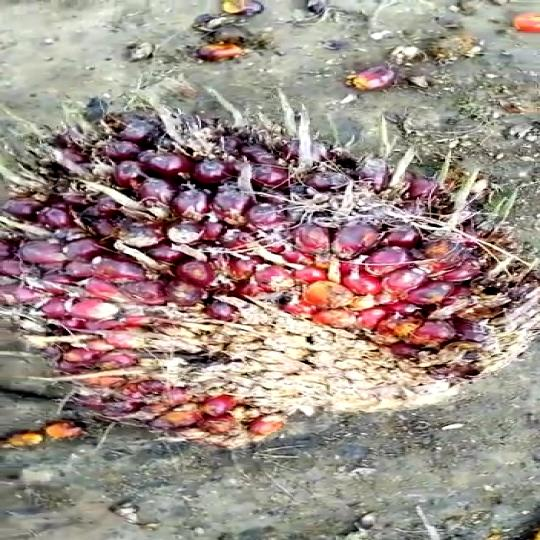masak: (0, 83, 540, 443)
